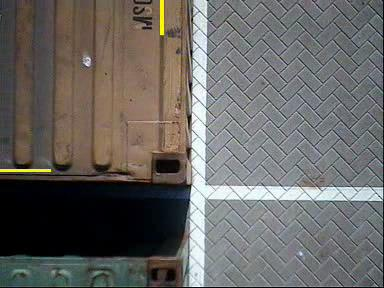groundmarker_2: (193, 159, 227, 228)
